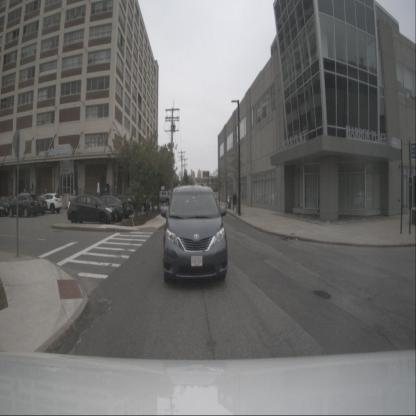human-pedestrian-adult: (233, 190, 236, 208), (30, 182, 34, 195)
vehicle-car: (163, 185, 228, 283), (67, 194, 116, 224), (86, 195, 126, 222), (100, 196, 134, 219), (7, 194, 39, 217), (118, 192, 150, 212), (20, 195, 48, 217), (35, 193, 62, 213), (353, 192, 373, 209), (150, 190, 172, 205), (0, 197, 9, 217)
vehicle-motorcycle: (227, 195, 231, 209)
